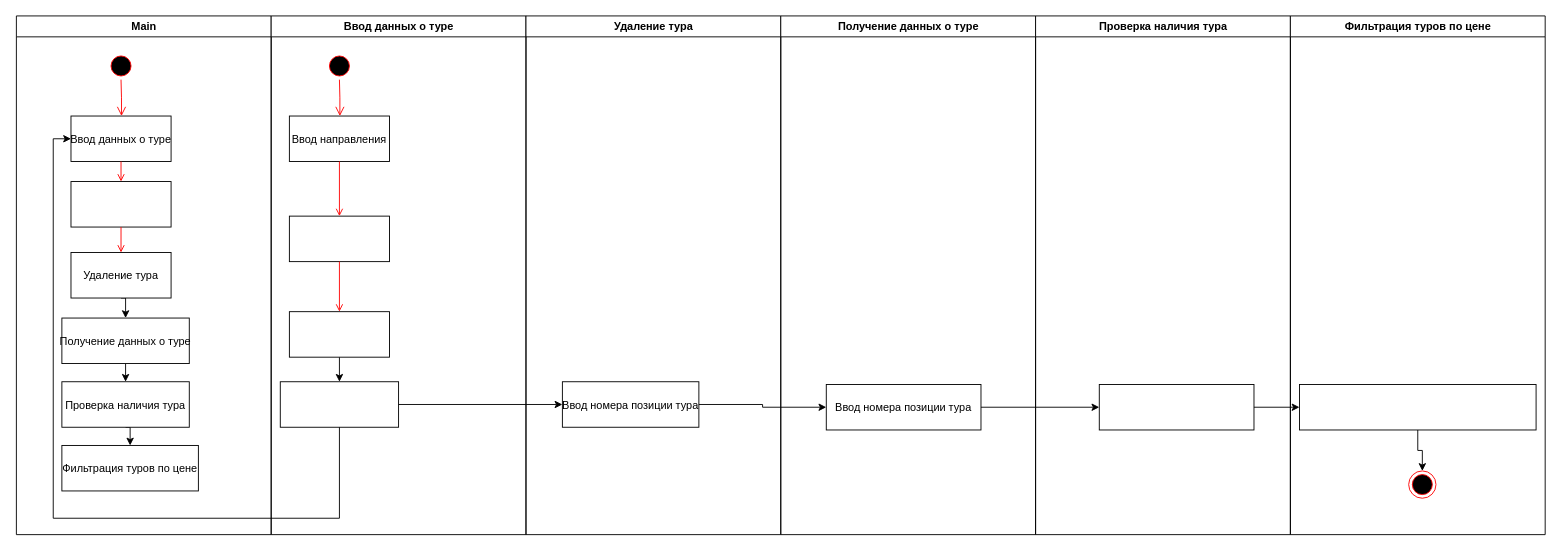
Some shapes in this 1561 by 551 pixel diagram are drawn without their labels. The shapes that lost their labels are listed below. From the top down, each one's centre as x and y in pixels, then its label:
At (120,204): "Добавление тура".
At (338,238): "Ввод продолжительности".
At (338,334): "Ввод цены".
At (339,404): "Ввод размера группы".
At (1176,407): "Ввод направления тура".
At (1417,407): "Ввод максимальной цены для фильтрации".
